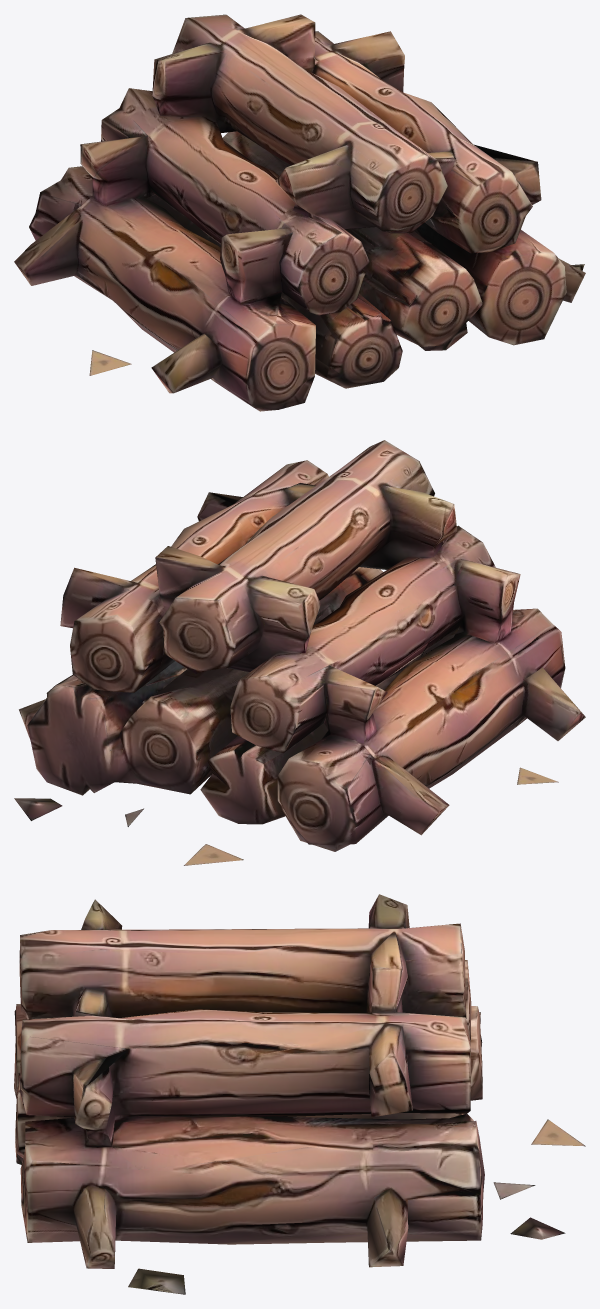
File: logs1.glb
3 views of the same model, one above another, from view 1: azimuth 30°, elevation 25°; view 2: azimuth 150°, elevation 25°; view 3: azimuth 270°, elevation 25° (orthographic). The views are drawn at different scales.
Bounding box in the file's own units: 2 × 0.8873 × 1.9.
Materials: 1 (1 with a texture image).
